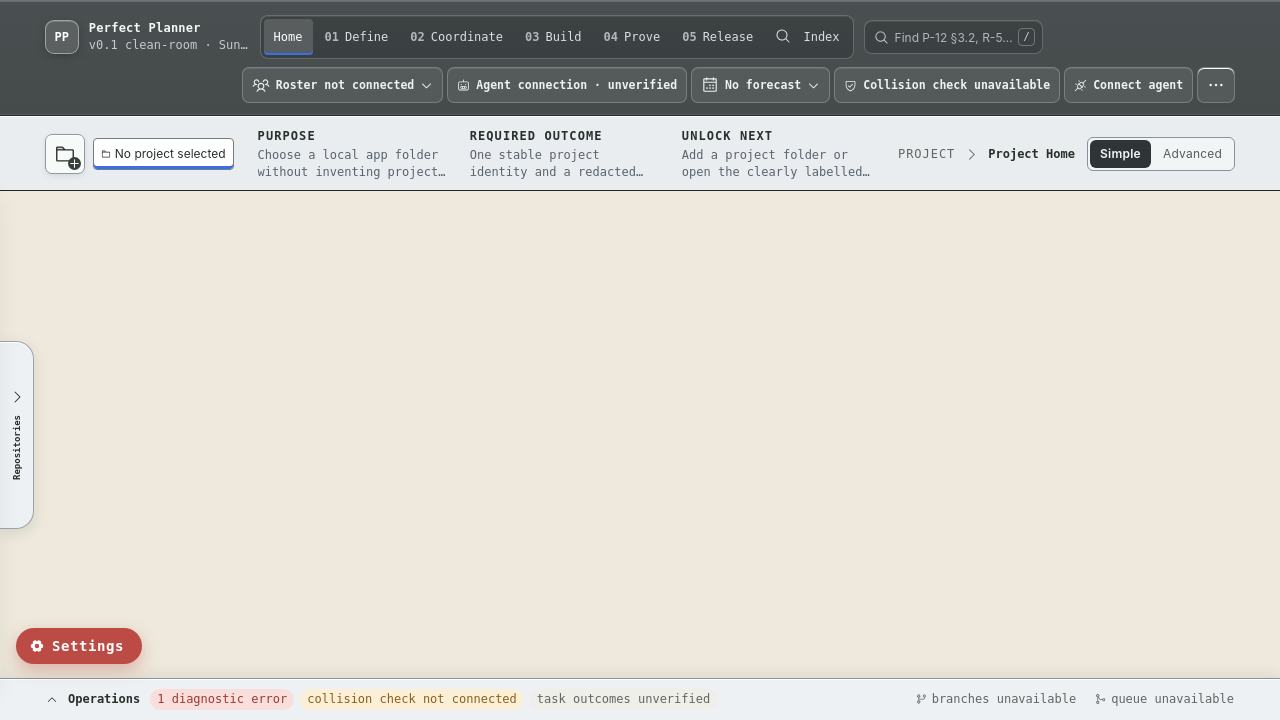
Scenario: pending event survives shell unmount and remount with same session
Click the button with class "ops-handle" at (640, 700), box top-left (0, 679), bottom-right (1279, 719)
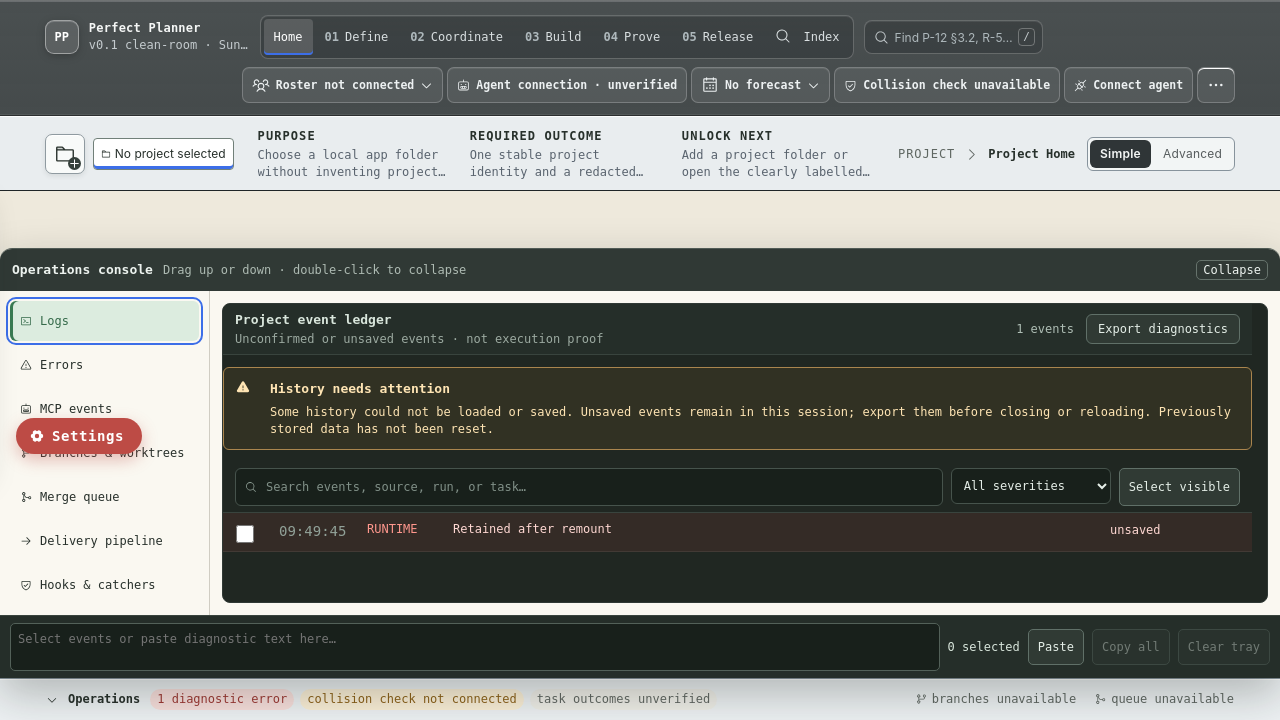
Now the text "Retained after remount" is shown, box top-left (453, 522), bottom-right (612, 536)
Now the text "unsaved" is shown, box top-left (1110, 524), bottom-right (1161, 538)
